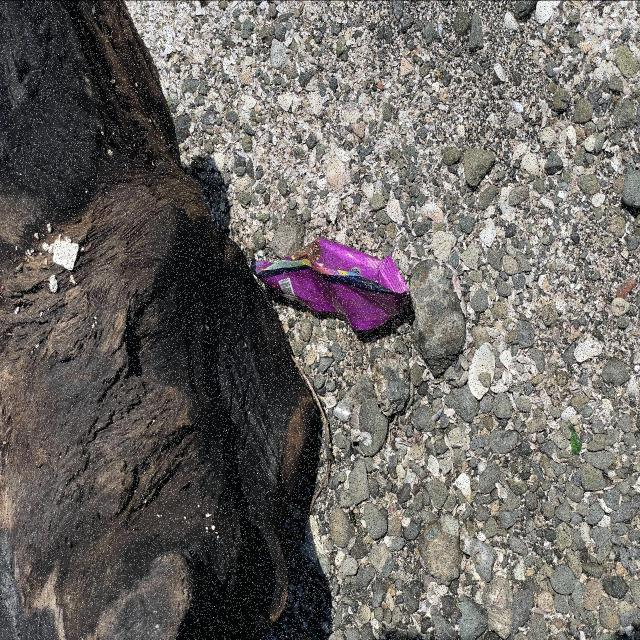plastic_waste: (249, 234, 409, 338)
